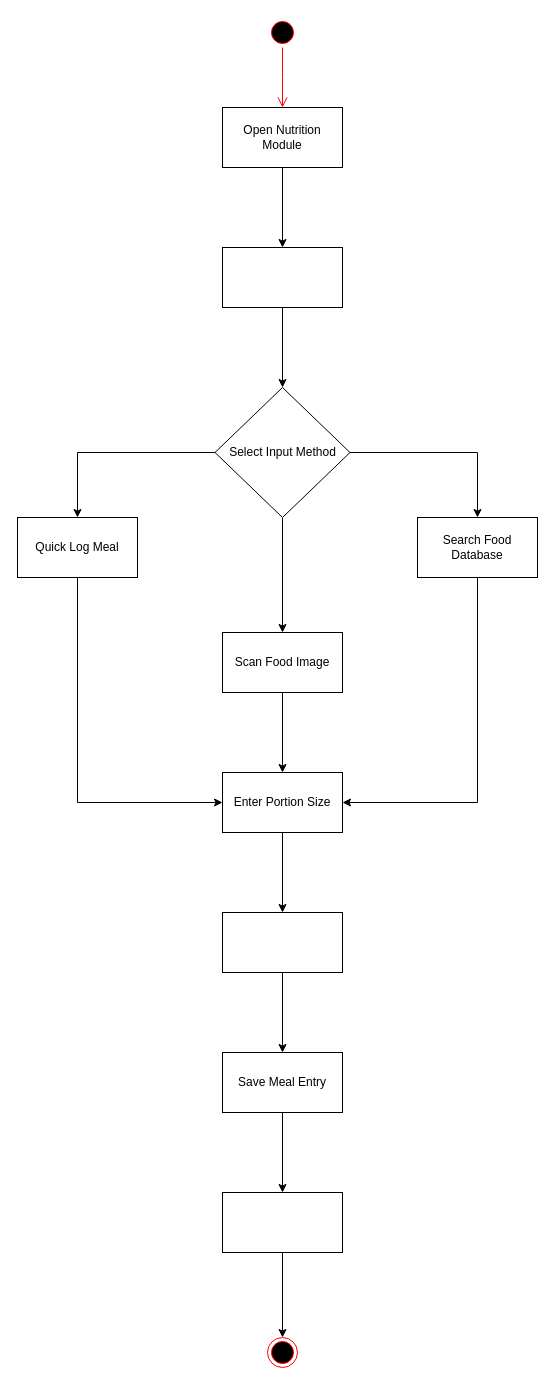
Some shapes in this 555 by 1385 pixel diagram are drawn without their labels. Here are the shapes that lost their labels. From the top down, the box of each, then its label:
(222, 246, 342, 308): Add Meal
(222, 912, 342, 972): Calculate Calories & Nutrients
(222, 1192, 342, 1252): Update Daily Summary
